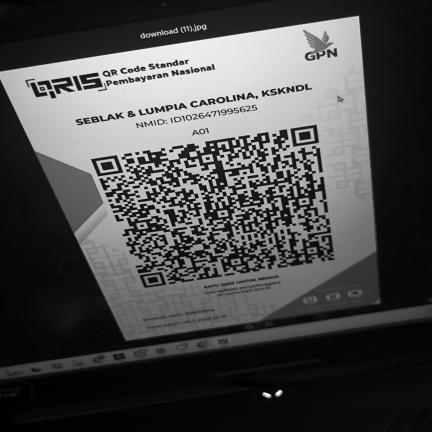Qris-Positioning: (0, 17, 379, 340)
